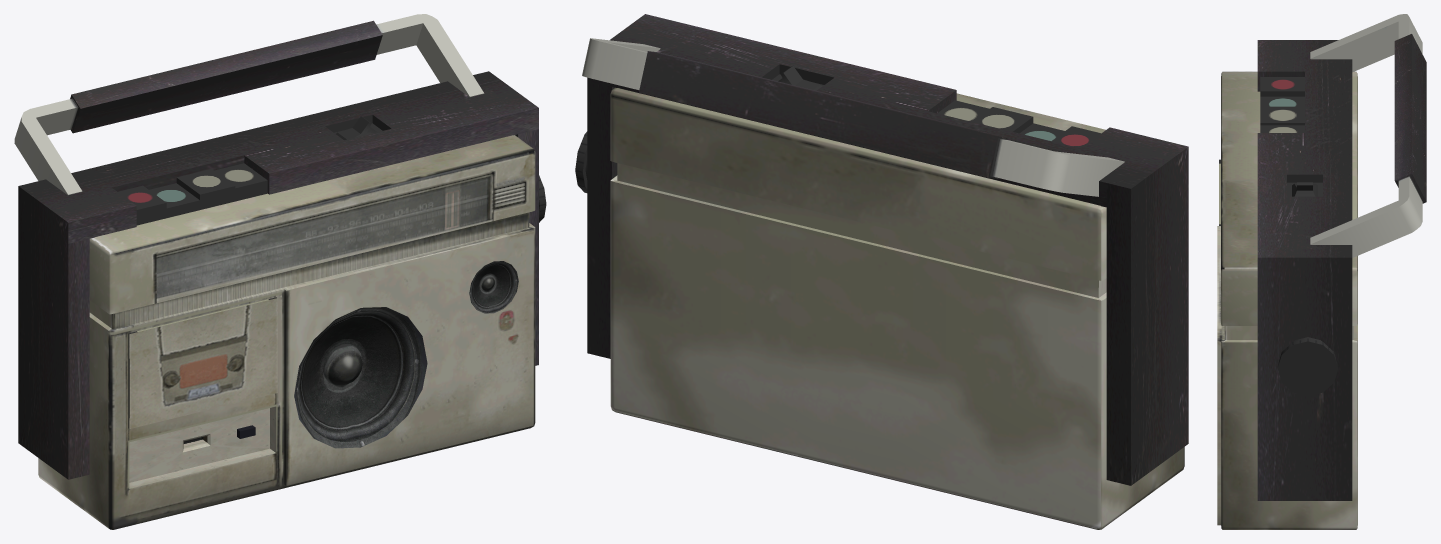
The model's file is Radio.FBX.
The picture shows the model from 3 angles, left to right: view 1: azimuth 30°, elevation 25°; view 2: azimuth 150°, elevation 25°; view 3: azimuth 270°, elevation 25°; orthographic projection. The views are drawn at different scales.
Parts seen in each view (by area): view 1: Radio; view 2: Radio; view 3: Radio.
Part boxes in pixels (<box>): Radio: <box>14,14,546,529</box>; Radio: <box>575,14,1188,529</box>; Radio: <box>1217,14,1426,529</box>.
Size of the model in its own units: 123 by 83.88 by 48.3.
